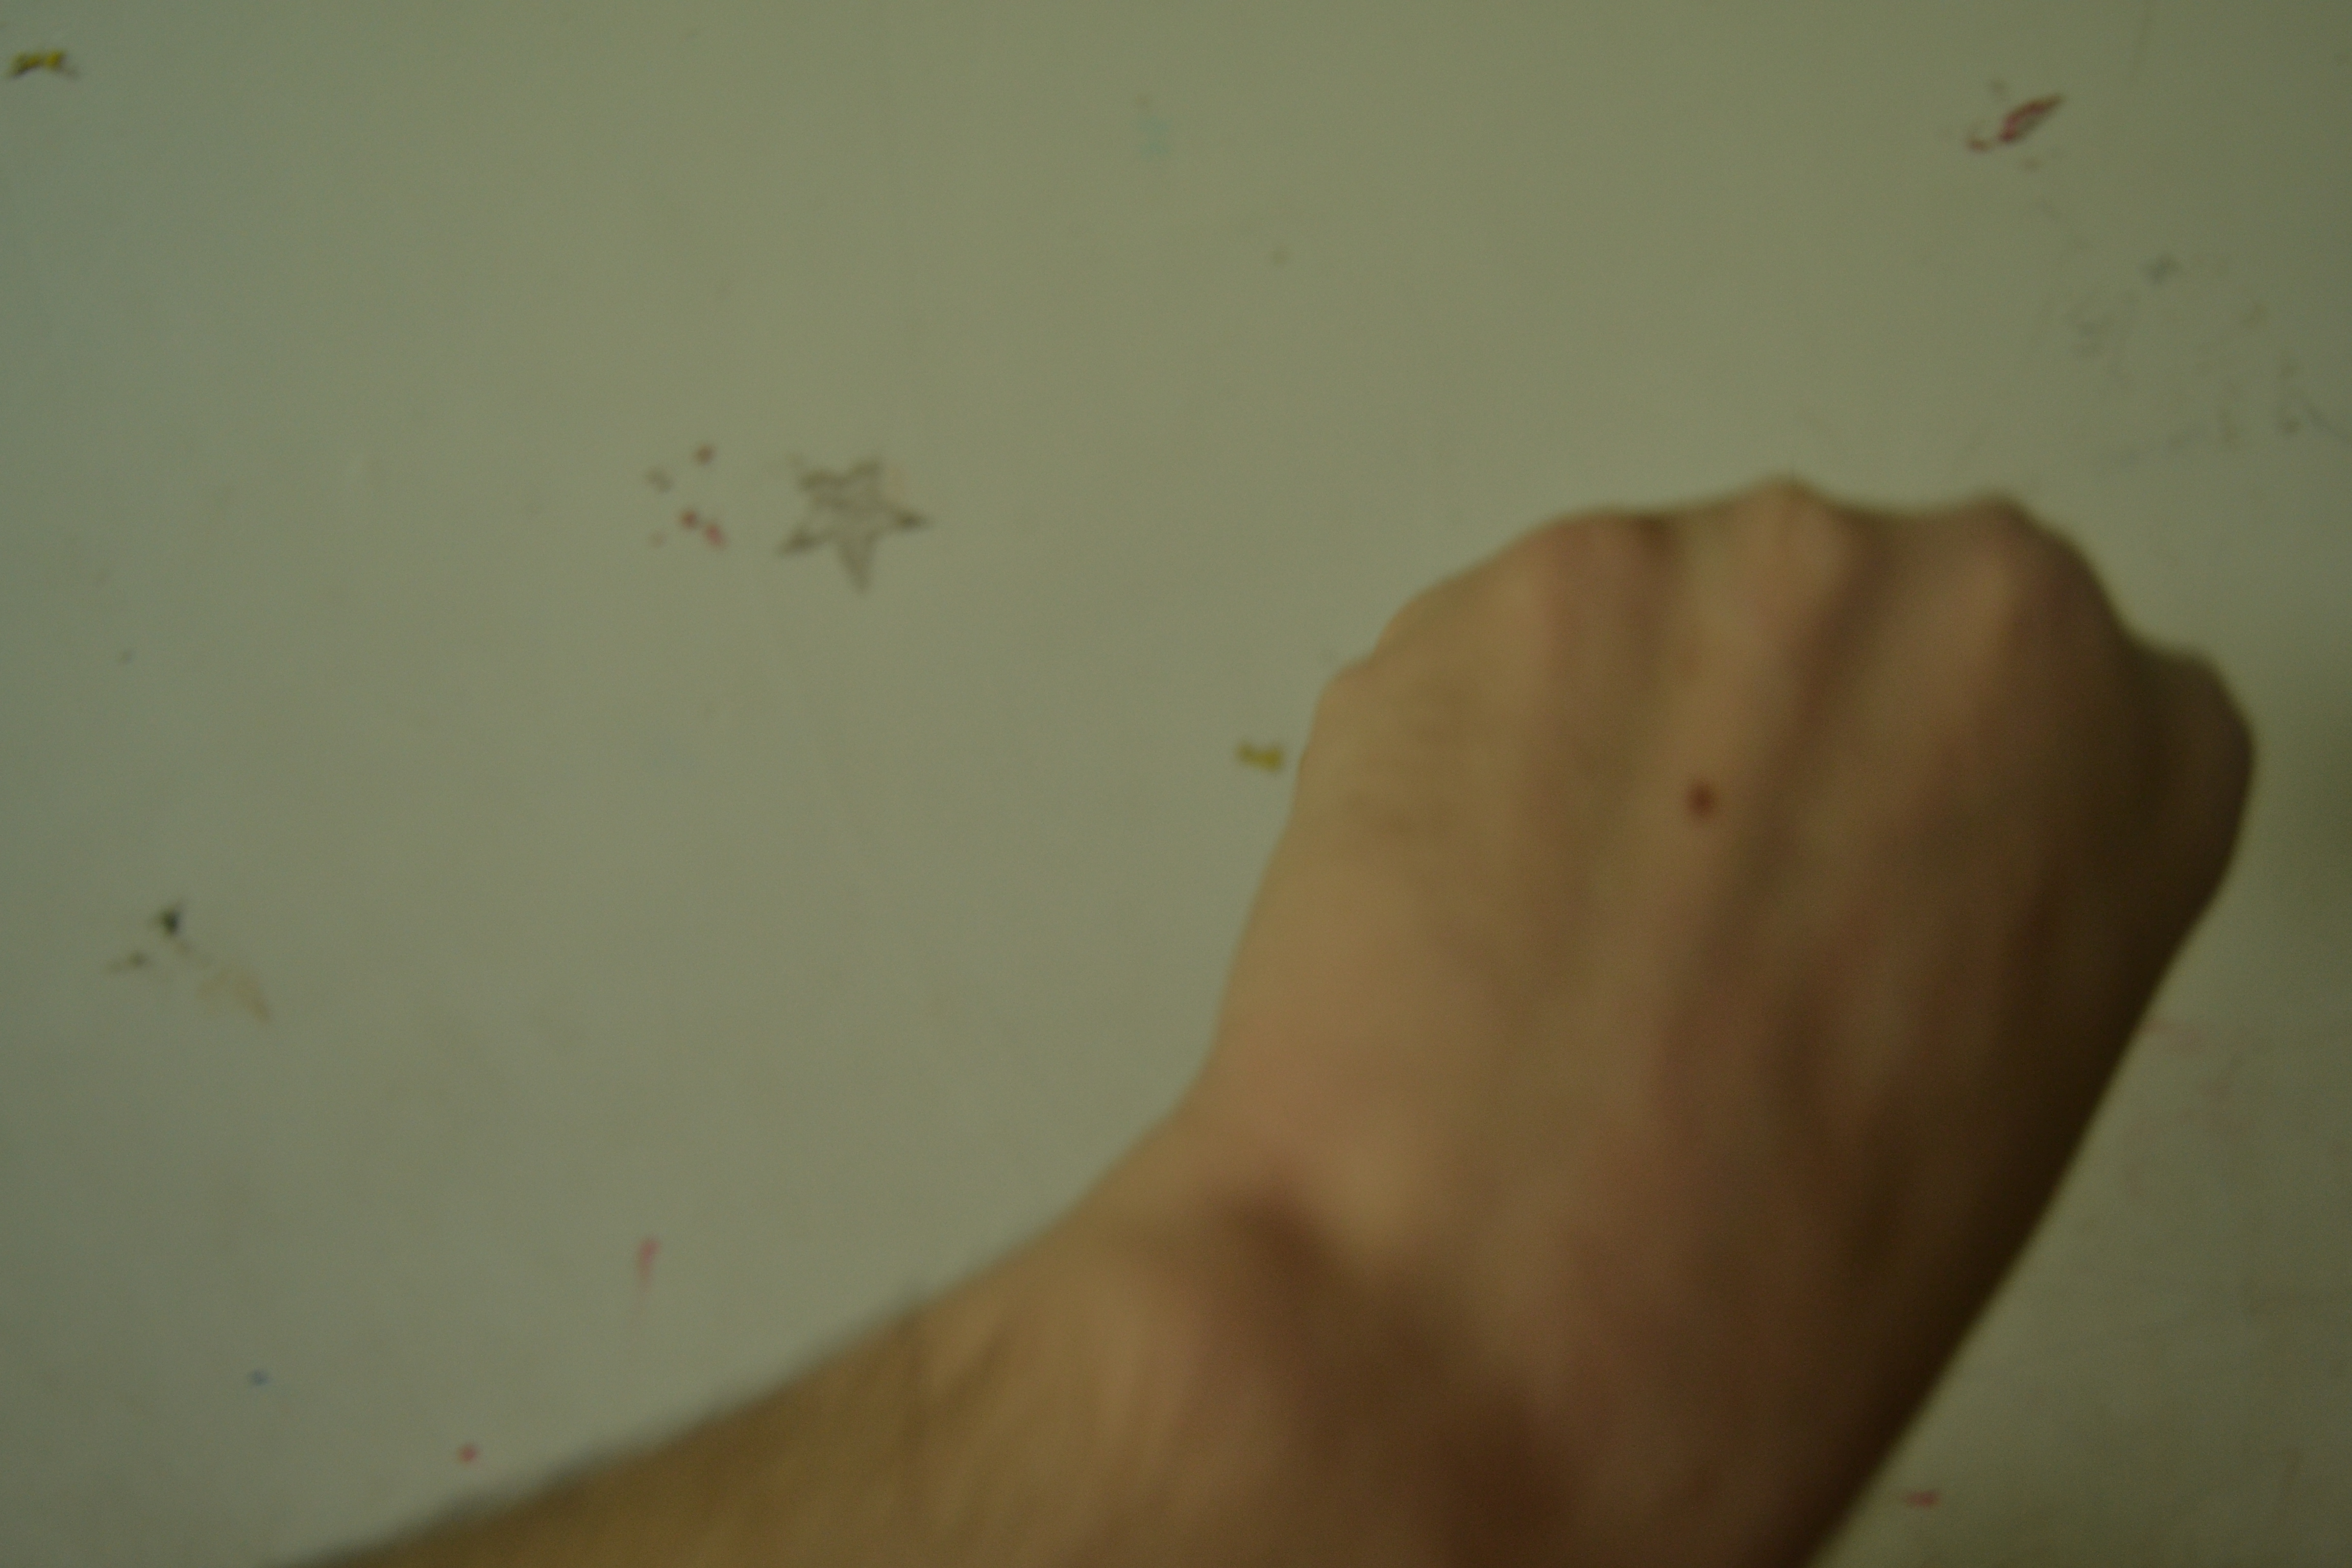click: (1186, 507, 2291, 1526)
